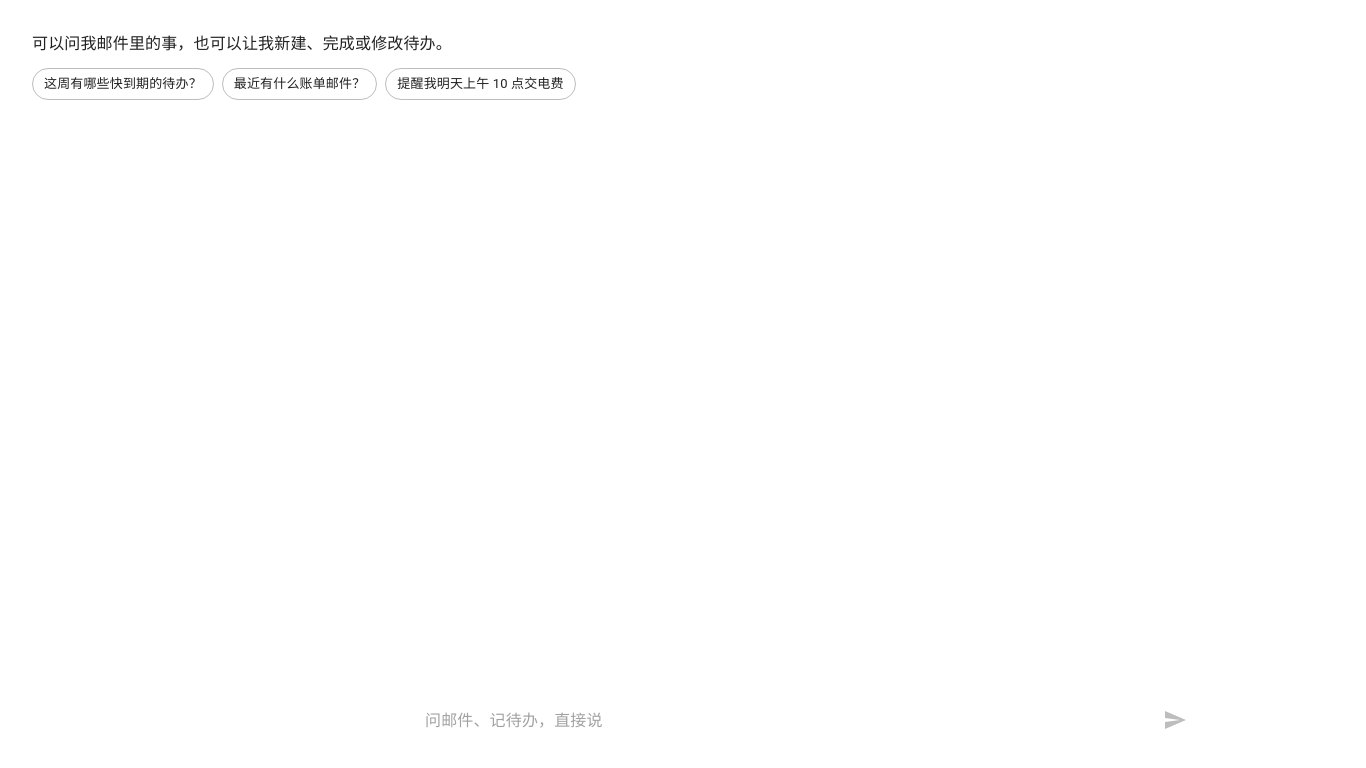
回复渲染 › 用户气泡渲染的是原文（纯文本，不走 Markdown）
The image size is (1366, 768).
In the text box named "给助理的消息": (779, 720) [425,708,1133,732], type "**这不是加粗**"
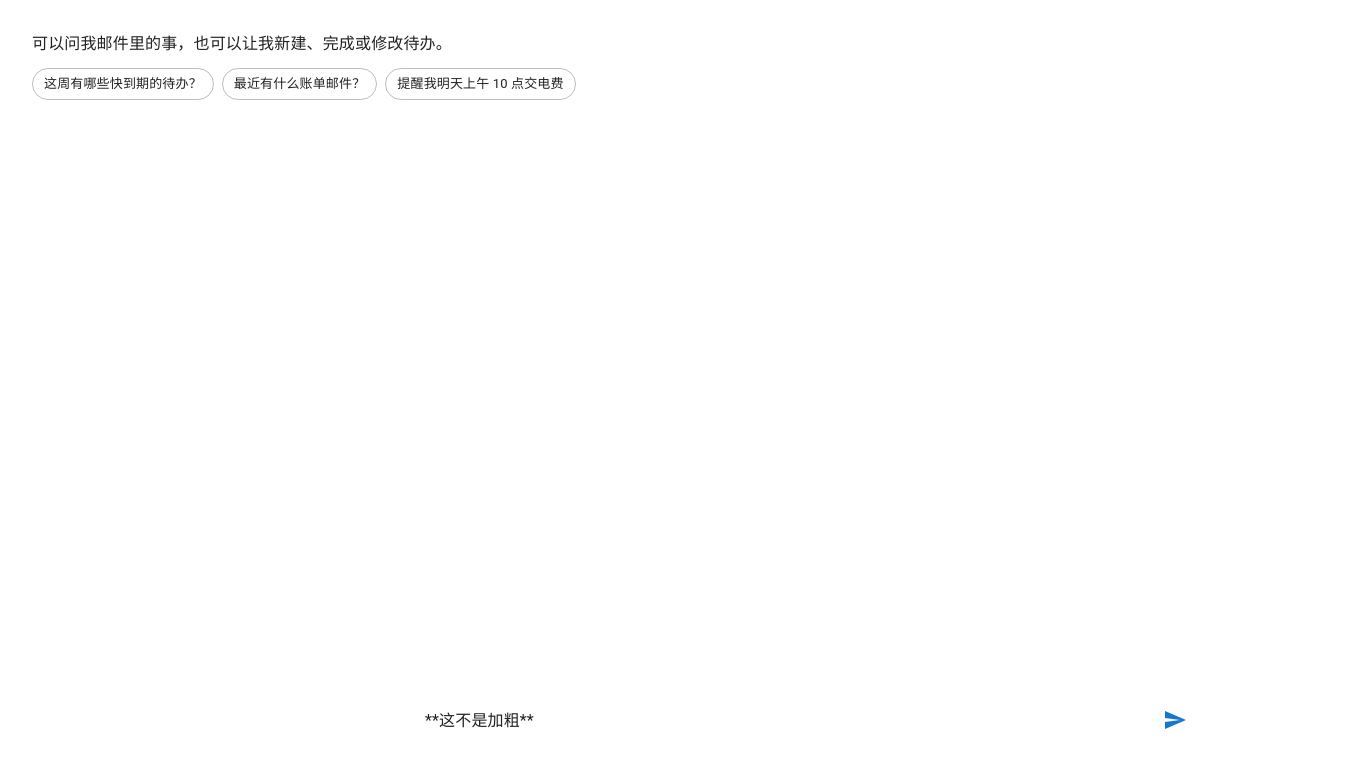
Press Enter in the text box named "给助理的消息", box [425,708,1133,732]
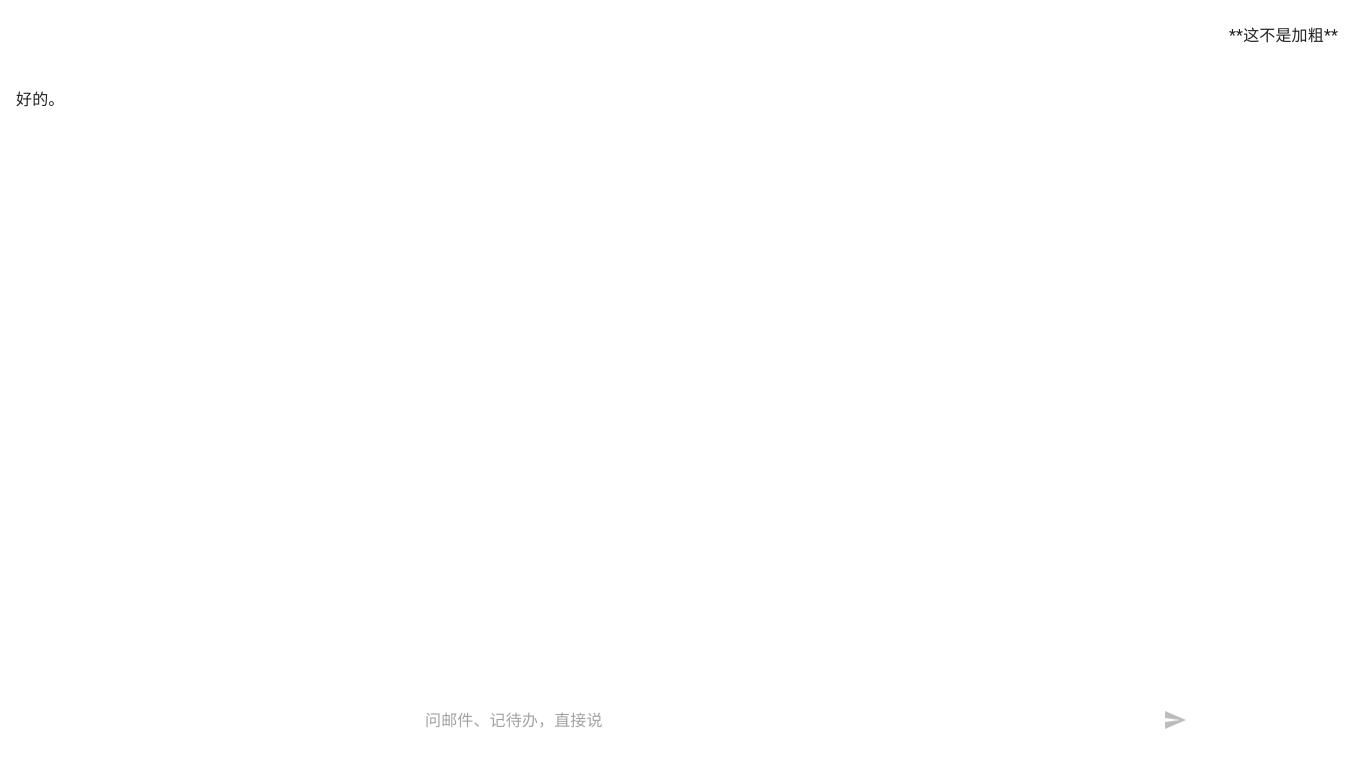
Now the text "好的。" is shown, box [16,90,64,109]
Now the text "**这不是加粗**" is shown, box [1229,26,1338,45]
